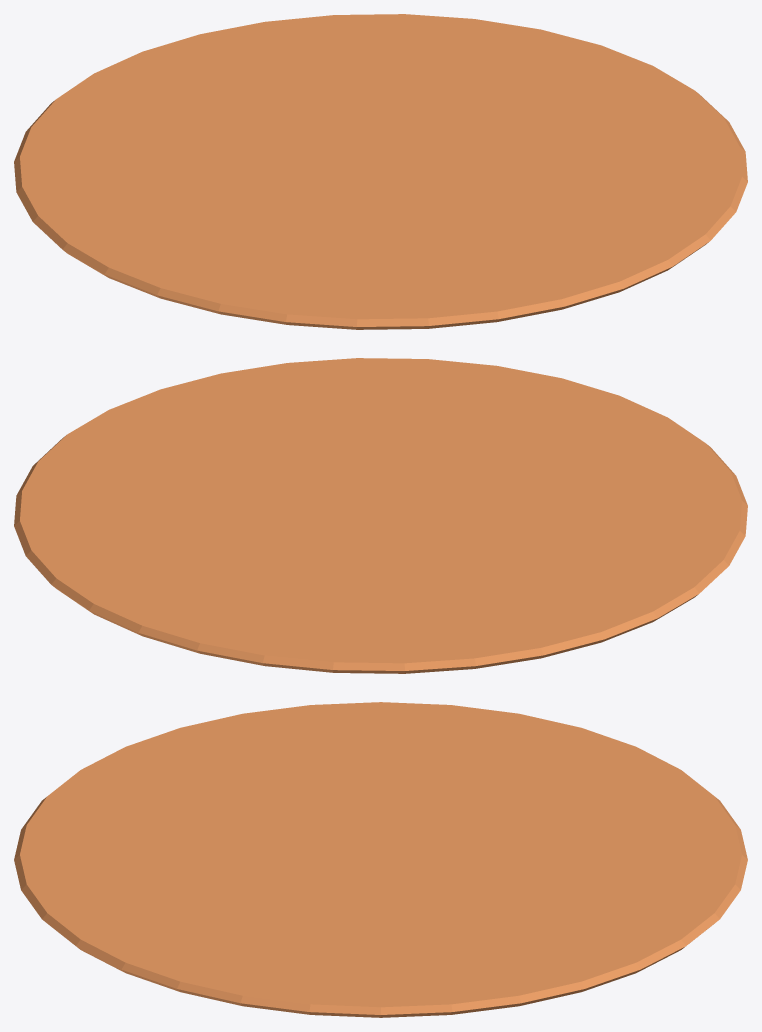
Rendered from Carpet_1.glb.
3 renders of one model, top to bottom at view 1: azimuth 30°, elevation 25°; view 2: azimuth 150°, elevation 25°; view 3: azimuth 270°, elevation 25°, orthographic.
Visible parts, largest first — view 1: Carpet_1; view 2: Carpet_1; view 3: Carpet_1.
Part boxes in pixels (x1,y1,x2,y2): Carpet_1: [14, 14, 747, 329]; Carpet_1: [14, 358, 747, 673]; Carpet_1: [14, 702, 747, 1017].
Bounding box in the file's own units: 3.92 × 0.0622 × 3.92.
